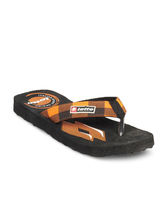shoes: (8, 83, 161, 161)
